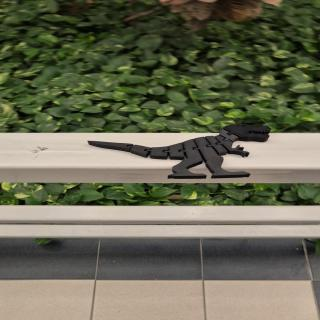dino: (87, 123, 272, 179)
